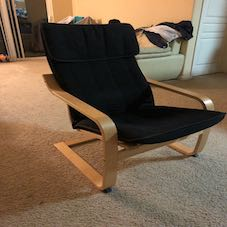chair: (12, 4, 225, 201)
